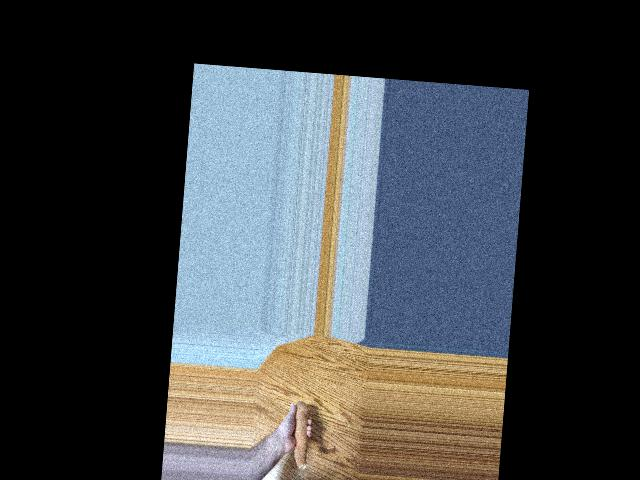sweet_potato: (285, 402, 310, 470)
